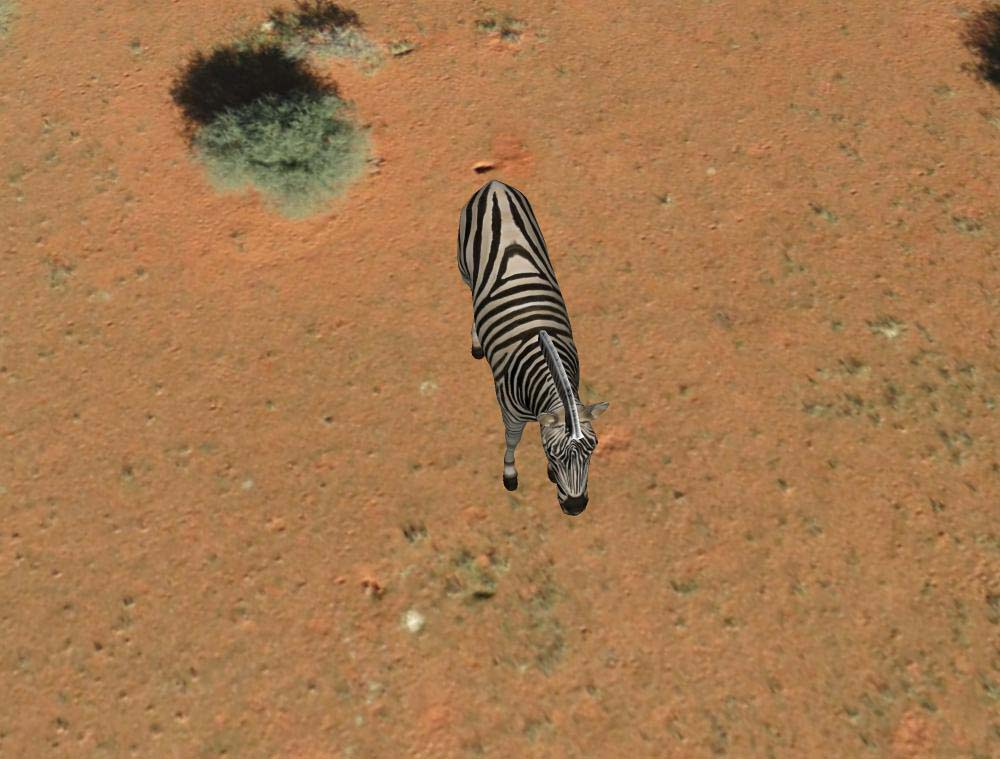zebra: (452, 172, 609, 521)
